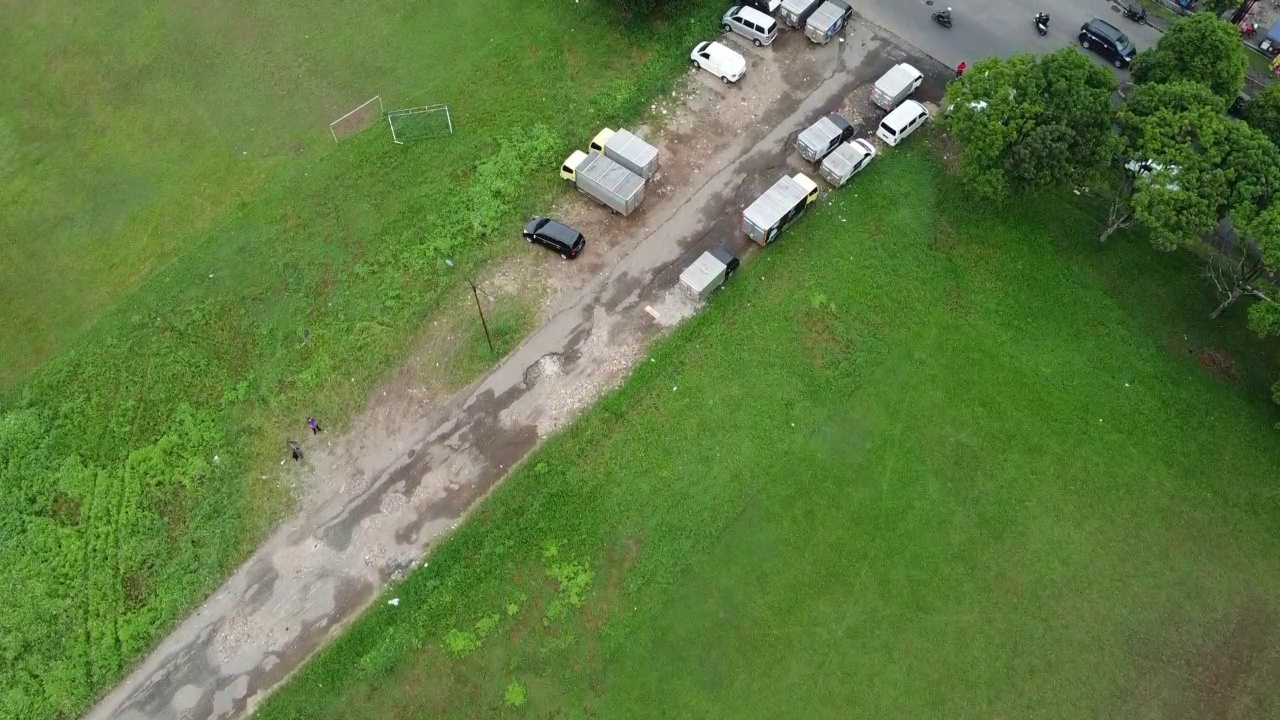mobil: (1074, 10, 1141, 72), (869, 91, 933, 149), (520, 214, 586, 260), (692, 39, 751, 88), (721, 6, 783, 49)
